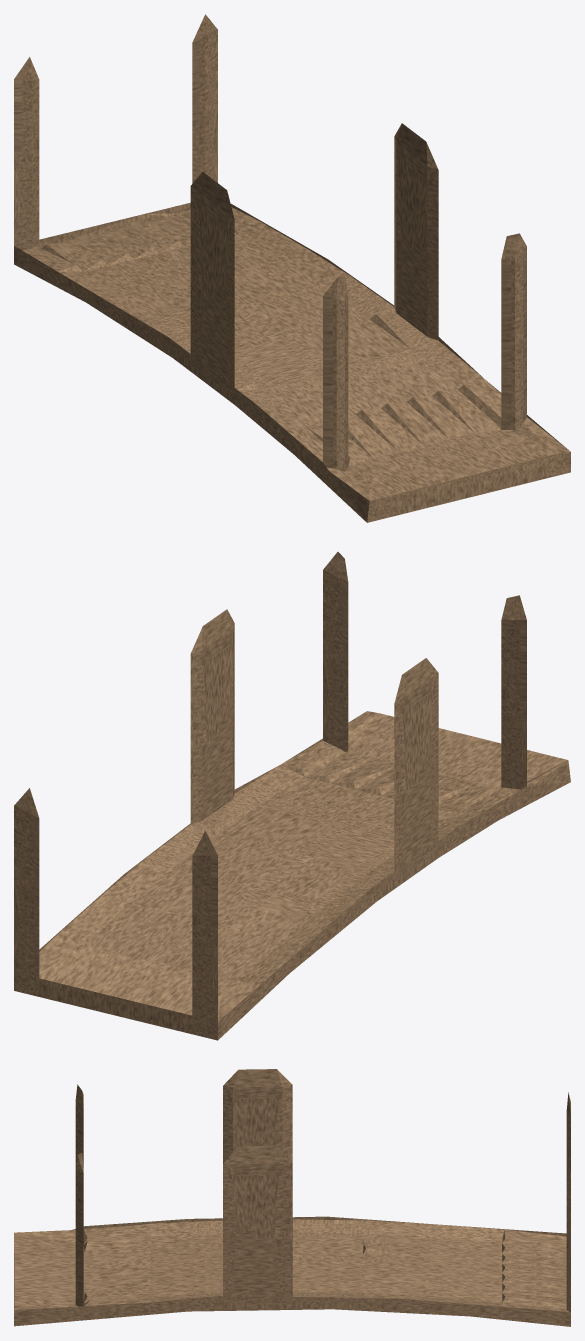
The model's file is wooden_bridge_r5_v3.glb.
3 renders of one model, top to bottom at view 1: azimuth 30°, elevation 25°; view 2: azimuth 150°, elevation 25°; view 3: azimuth 270°, elevation 25°, orthographic. The views are drawn at different scales.
Parts seen in each view (by area): view 1: wooden_bridge_lp; view 2: wooden_bridge_lp; view 3: wooden_bridge_lp.
Boxes of the visible parts, bbox=[...] form: wooden_bridge_lp: bbox=[14, 14, 570, 522]; wooden_bridge_lp: bbox=[14, 552, 570, 1040]; wooden_bridge_lp: bbox=[14, 1069, 570, 1326].
Size of the model in its own units: 0.5 by 0.536 by 1.5.
1 material, 1 textured.
